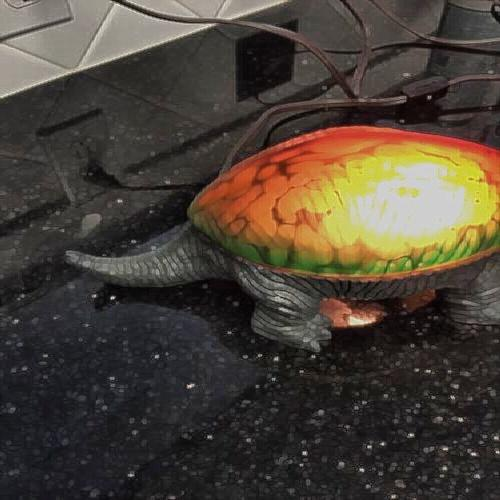lamp: (146, 132, 500, 339)
